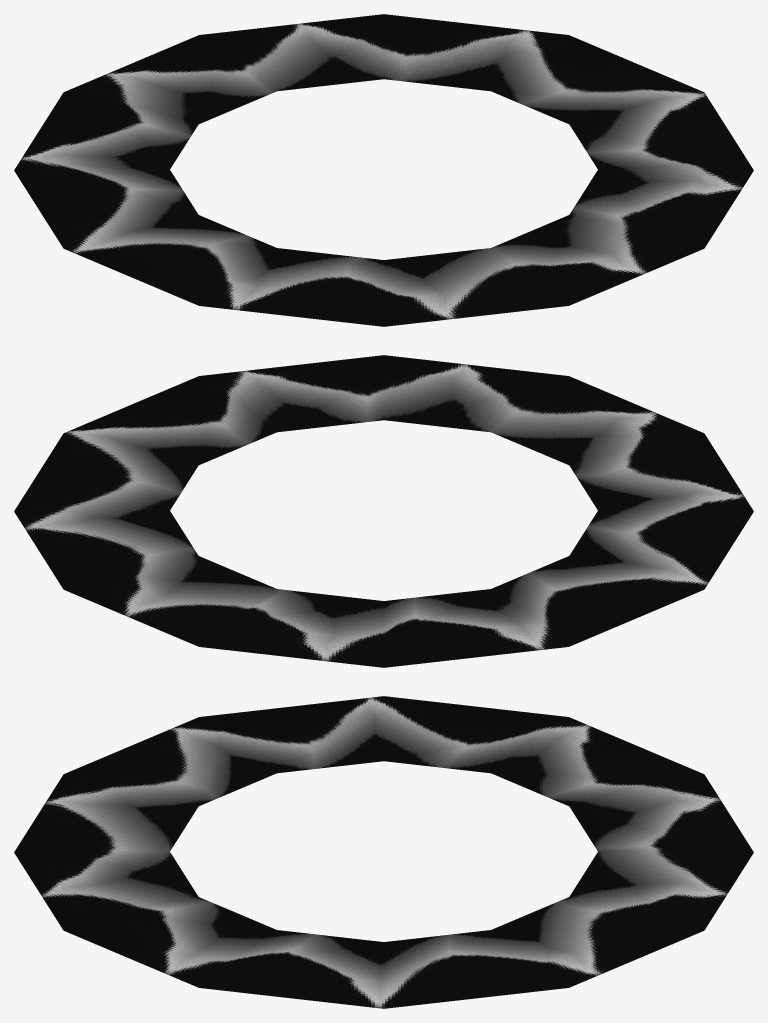
Rendered from TESTEIMPACTE_001.fbx.
3 renders of one model, top to bottom at view 1: azimuth 30°, elevation 25°; view 2: azimuth 150°, elevation 25°; view 3: azimuth 270°, elevation 25°, orthographic.
Visible parts, largest first — view 1: pCylinder1; view 2: pCylinder1; view 3: pCylinder1.
Boxes of the visible parts, x1,y1,x2,y2 form: pCylinder1: (14, 14, 753, 326); pCylinder1: (14, 355, 753, 667); pCylinder1: (14, 696, 753, 1008).
Size of the model in its own units: 158 by 1.31 by 158.
